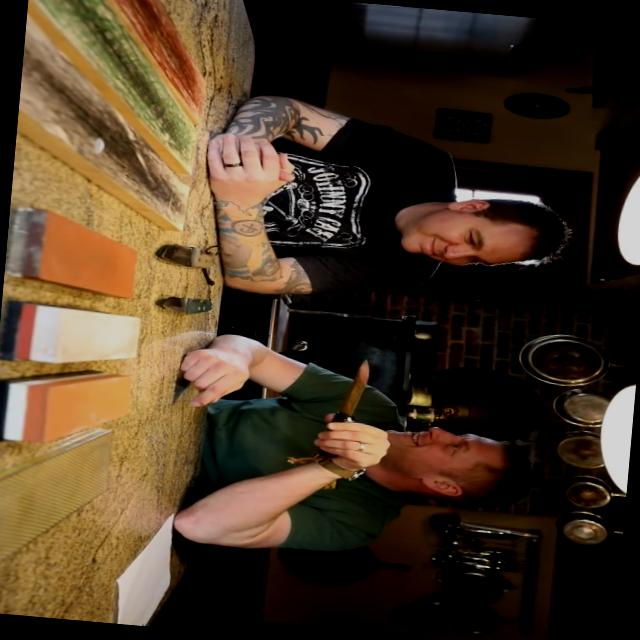knife: (312, 350, 402, 461)
